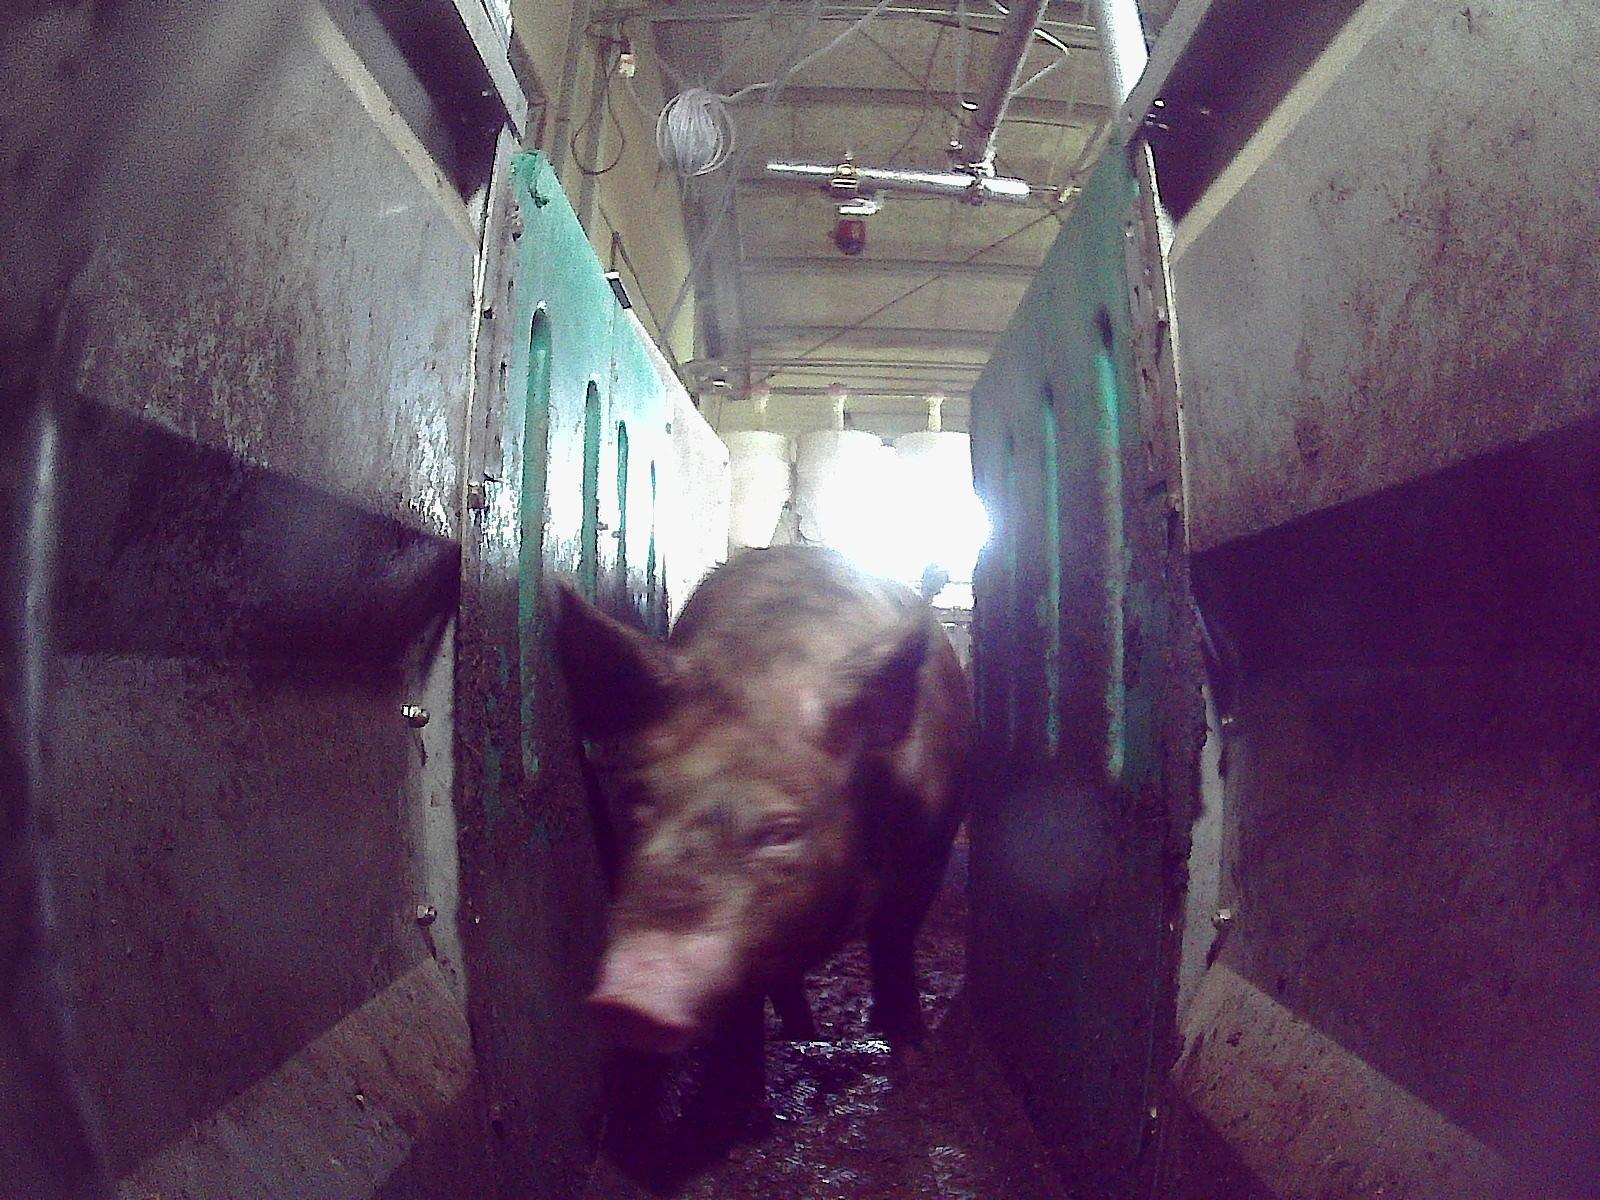Face: (589, 677, 857, 1054)
